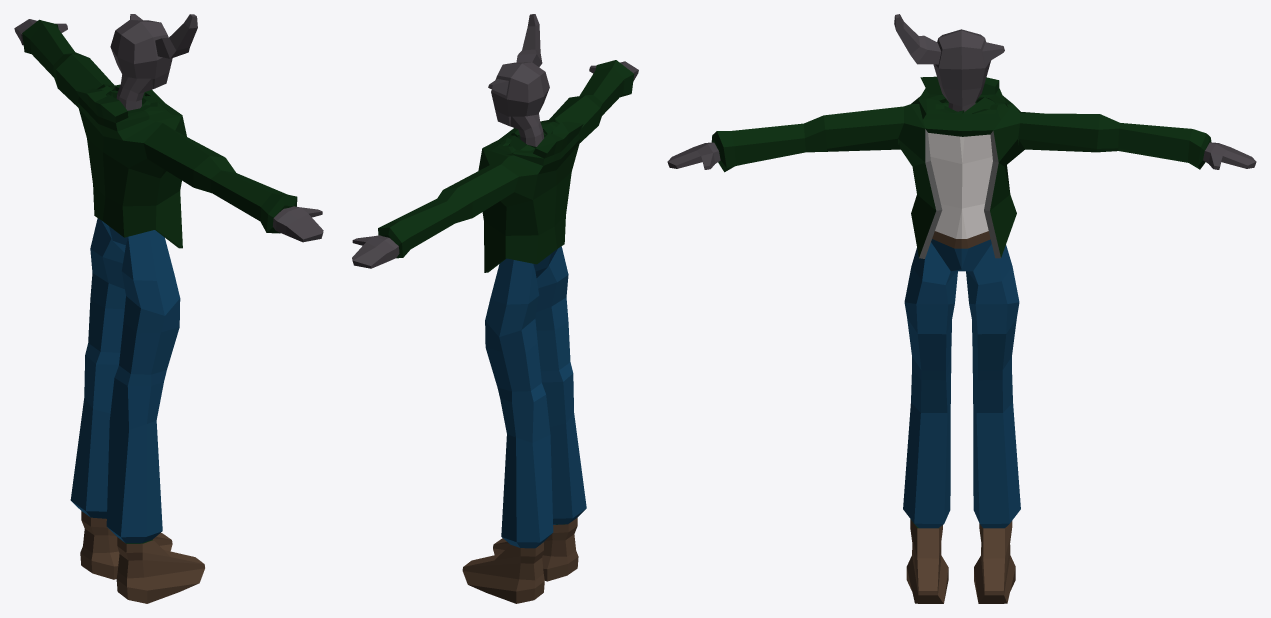
The model's file is Ragdoll3.fbx.
The picture shows the model from 3 angles, left to right: view 1: azimuth 30°, elevation 25°; view 2: azimuth 150°, elevation 25°; view 3: azimuth 270°, elevation 25°; orthographic projection. The views are drawn at different scales.
Parts seen in each view (by area): view 1: Cube.009; view 2: Cube.009; view 3: Cube.009.
Part boxes in pixels (<box>): Cube.009: <box>14,14,323,603</box>; Cube.009: <box>352,14,638,603</box>; Cube.009: <box>667,14,1256,603</box>.
Bounding box in the file's own units: 35.07 × 195 × 178.
